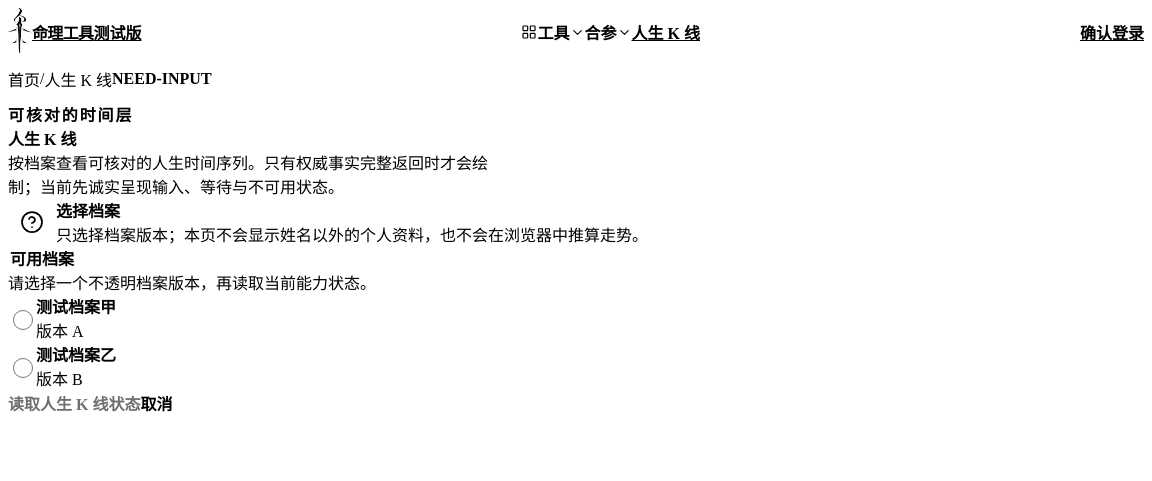
it: /life-kline honest non-ready states › restores a confirmed profile when switching is cancelled without a temporary change
Step 1. Click the radio button labelled "测试档案甲 版本 A" → coordinates (23, 320), box [13, 310, 33, 330]
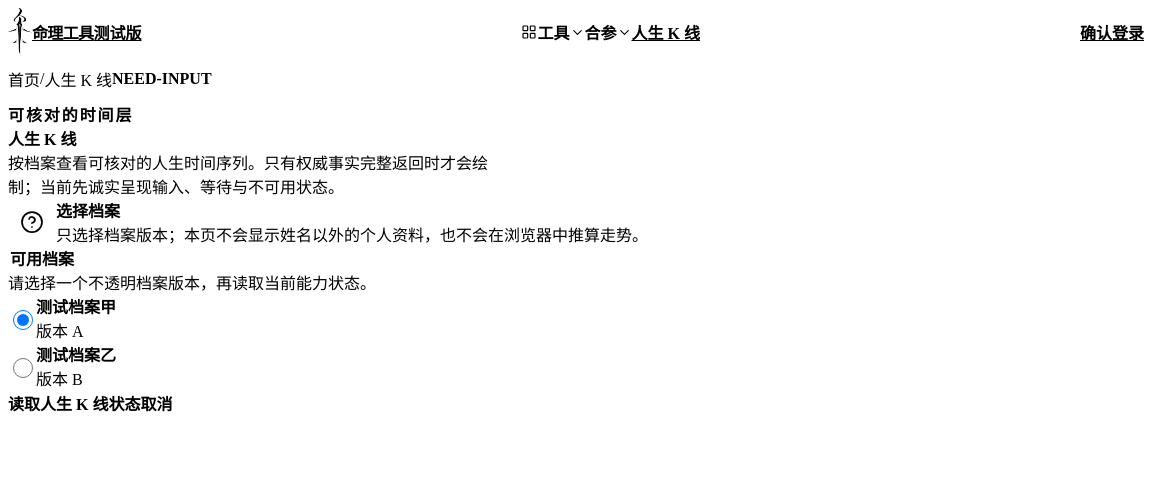
Step 2. Click the button "读取人生 K 线状态" → coordinates (74, 403), box [8, 390, 140, 416]
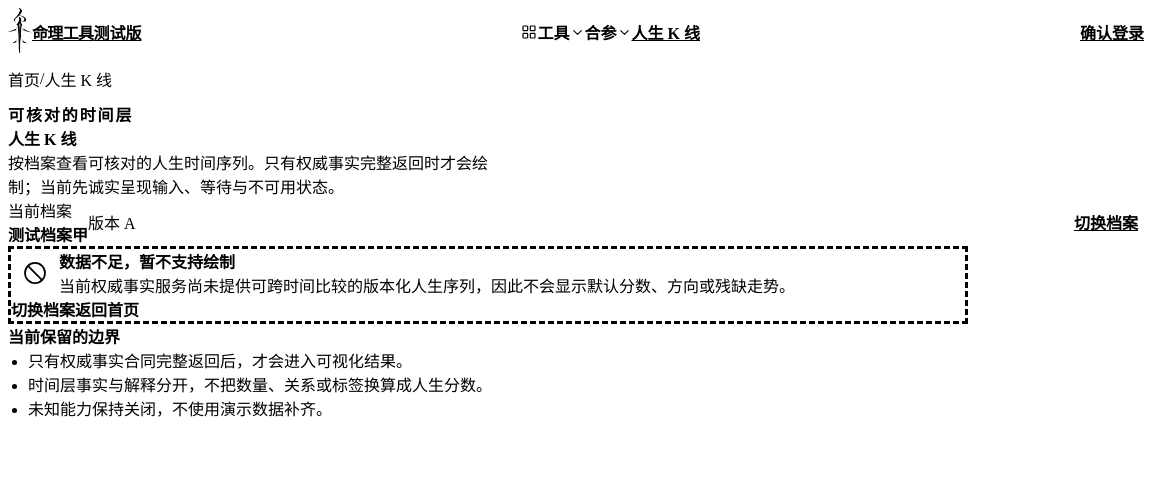
Step 3. Click the button "切换档案" in the row of "版本 A" → coordinates (1106, 222), box [1068, 209, 1144, 235]
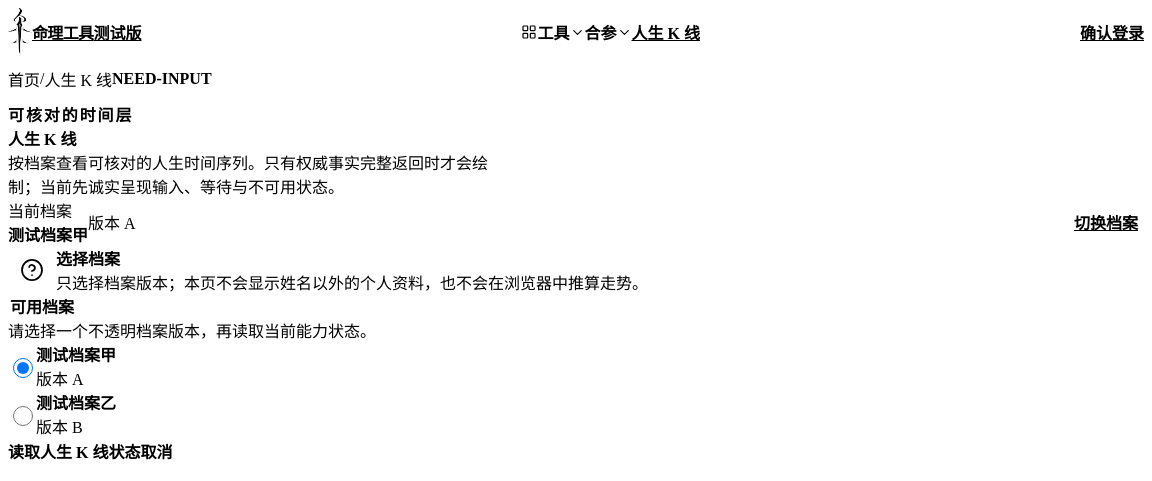
Expected: the text "测试档案甲" below "当前档案" is shown, [8, 227, 88, 244]
Step 4. Click the button "取消" → coordinates (156, 451), box [140, 438, 172, 464]
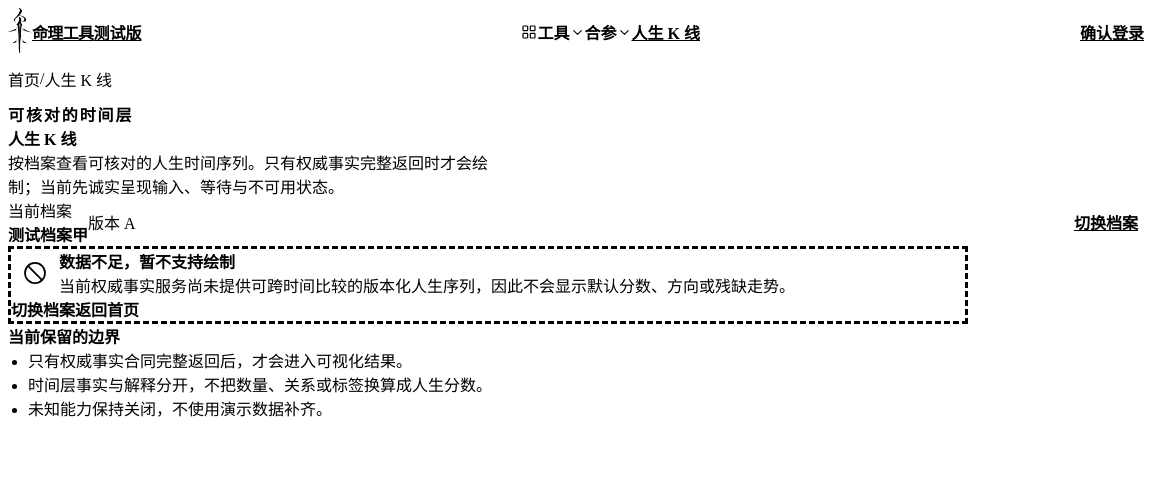
Expected: the text "测试档案甲" is shown, [8, 222, 88, 246]
Expected: the heading "数据不足，暂不支持绘制" is shown, [59, 254, 235, 271]
Expected: the text "测试档案乙" is gone
